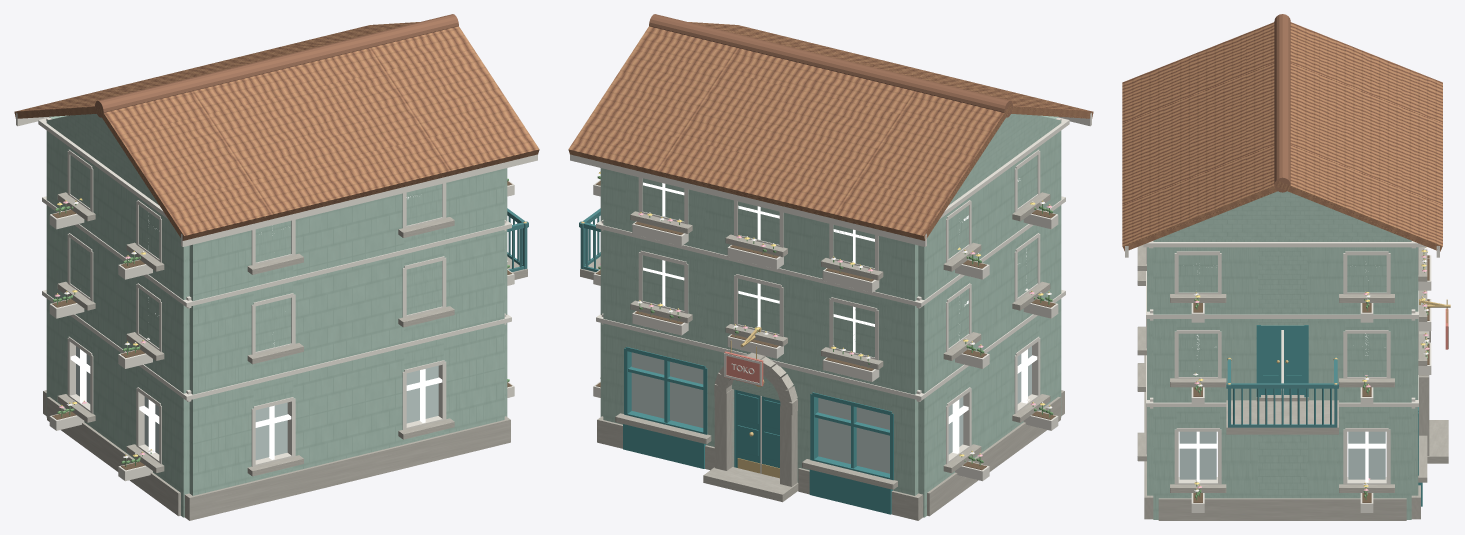
Rendered from gedung-g01-blender-v2.glb.
3 renders of one model, left to right at view 1: azimuth 30°, elevation 25°; view 2: azimuth 150°, elevation 25°; view 3: azimuth 270°, elevation 25°, orthographic. The views are drawn at different scales.
Visible parts, largest first — view 1: BK_B1, AtapS, C1_L1, BD_Amb, Ridge, BD_Kaca-1, WB_-1.9_0.9_Mull, BK_BotF, WF_-2.4_3.6_FB_Tanah; view 2: BK_B1, AtapS, C1_L1, BD_Amb, BD_Daun-1, WF_Shop-2.35_Glass, Ridge, WB_-1.9_0.9_Mull, WF_-2.4_3.6_FB_Tanah, BK_BotF, SG_Board, BD_Kaca-1 (+2 smaller); view 3: BK_B1, AtapS, BD_Amb, C1_L1, BD_Daun-1, BD_Kaca-1, Ridge, BK_BotF, WB_-1.9_0.9_Mull, WF_-2.4_3.6_FB_Tanah.
Boxes of the visible parts, x1,y1,x2,y2 form: BK_B1: [46, 114, 507, 517]; AtapS: [14, 22, 539, 240]; C1_L1: [16, 113, 537, 481]; BD_Amb: [43, 192, 527, 520]; Ridge: [95, 14, 458, 117]; BD_Kaca-1: [76, 346, 438, 460]; WB_-1.9_0.9_Mull: [70, 196, 442, 459]; BK_BotF: [507, 208, 528, 271]; WF_-2.4_3.6_FB_Tanah: [52, 181, 512, 470]; BK_B1: [600, 114, 1061, 517]; AtapS: [568, 22, 1093, 240]; C1_L1: [570, 113, 1091, 481]; BD_Amb: [580, 192, 1064, 520]; BD_Daun-1: [623, 347, 893, 514]; WF_Shop-2.35_Glass: [631, 352, 889, 473]; Ridge: [649, 14, 1012, 117]; WB_-1.9_0.9_Mull: [643, 178, 1037, 453]; WF_-2.4_3.6_FB_Tanah: [595, 181, 1055, 470]; BK_BotF: [579, 208, 600, 271]; SG_Board: [724, 351, 763, 386]; BD_Kaca-1: [948, 346, 1031, 454]; BK_B1: [1147, 191, 1418, 519]; AtapS: [1122, 22, 1442, 251]; BD_Amb: [1137, 245, 1448, 520]; C1_L1: [1125, 241, 1448, 512]; BD_Daun-1: [1256, 325, 1422, 506]; BD_Kaca-1: [1179, 431, 1385, 479]; Ridge: [1274, 14, 1290, 192]; BK_BotF: [1226, 357, 1338, 427]; WB_-1.9_0.9_Mull: [1178, 280, 1386, 482]; WF_-2.4_3.6_FB_Tanah: [1193, 255, 1429, 502].
Size of the model in its own units: 10.38 by 8.91 by 7.59.
17 materials, 3 textured.
